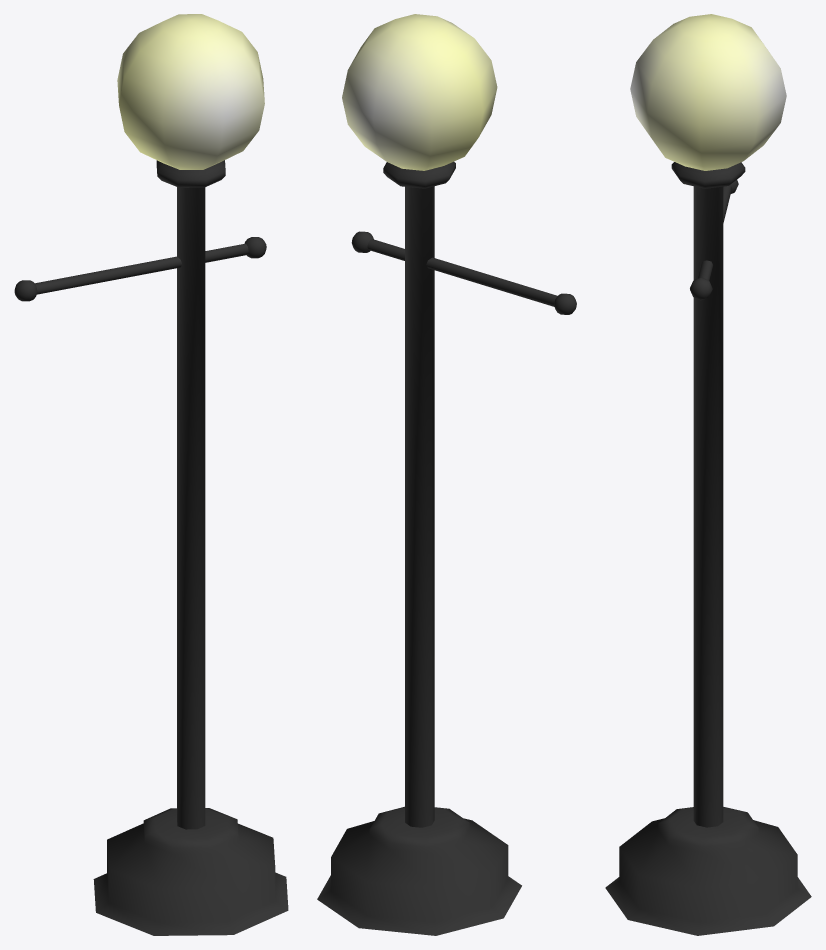
File: ParkLight.obj
3 renders of one model, left to right at view 1: azimuth 30°, elevation 25°; view 2: azimuth 150°, elevation 25°; view 3: azimuth 270°, elevation 25°, orthographic.
Visible parts, largest first — view 1: Deca_Park_Lamp; view 2: Deca_Park_Lamp; view 3: Deca_Park_Lamp.
Part boxes in pixels (bbox=[...]): Deca_Park_Lamp: bbox=[14, 14, 288, 935]; Deca_Park_Lamp: bbox=[317, 14, 576, 935]; Deca_Park_Lamp: bbox=[605, 14, 811, 935].
Bounding box in the file's own units: 1.15 × 3.75 × 0.8053.
1 material, 1 textured.
